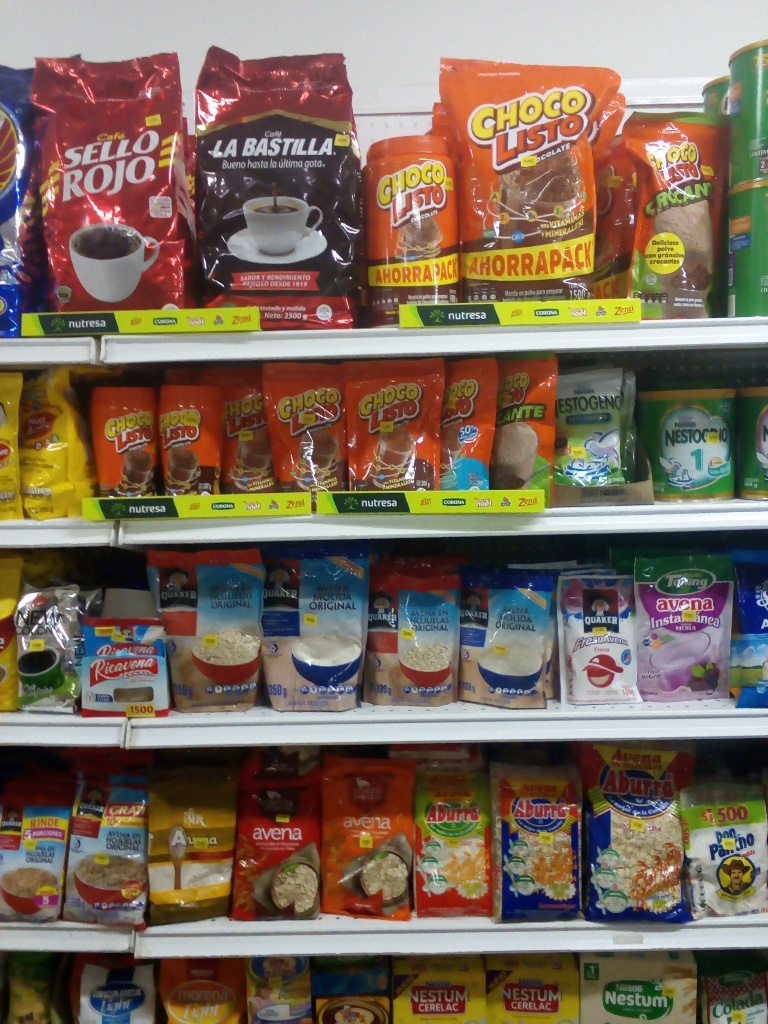COL0170102DYP50000: (622, 102, 737, 322)
COL0170103DYP1,500: (443, 51, 623, 305)
COL0170103TRR00100: (367, 134, 456, 325)
COL0170104DYP20000: (435, 352, 494, 492)
